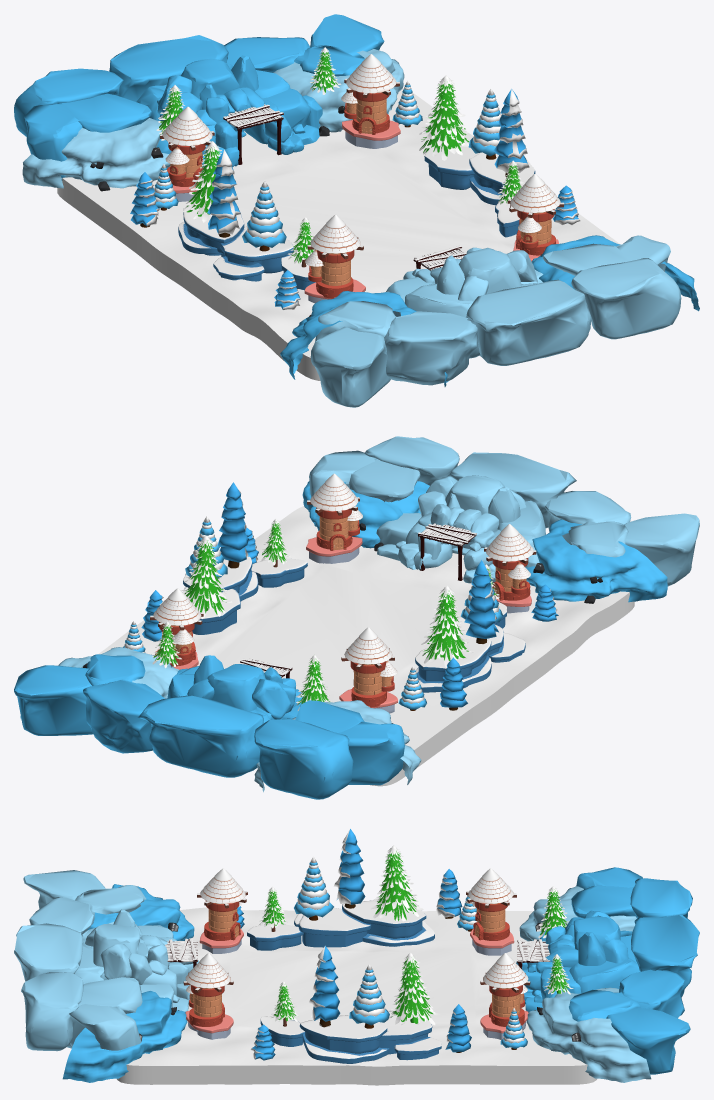
Rendered from snow.glb.
3 views of the same model, one above another, from view 1: azimuth 30°, elevation 25°; view 2: azimuth 150°, elevation 25°; view 3: azimuth 270°, elevation 25° (orthographic). The views are drawn at different scales.
Parts seen in each view (by area): view 1: Plane_0, Object_26, Object_10, Plane.001_10, Tree-Stabd-1_15, HOUSE-1_14, HOUSE-1.001_16, Plane.002_12, Tree-4_20, Tree-6_21, Tree-1_17, Tree-7_22 (+8 smaller); view 2: Plane_0, Object_10, Object_26, Plane.002_12, Tree-Stabd-1_15, HOUSE-1.001_16, HOUSE-1_14, Tree-4_20, Tree-6_21, Plane.001_10, Tree-2_18, Tree-1_17 (+6 smaller); view 3: Plane_0, Object_26, Object_10, Tree-Stabd-1_15, Plane.001_10, Plane.002_12, HOUSE-1.001_16, HOUSE-1_14, Tree-4_20, Tree-6_21, Tree-1_17, Tree-2_18 (+8 smaller).
Boxes of the visible parts, box(x1,y1,x2,y2) form: Plane_0: box(57, 88, 620, 380); Object_26: box(310, 235, 681, 407); Object_10: box(14, 14, 384, 180); Plane.001_10: box(22, 49, 404, 188); Tree-Stabd-1_15: box(178, 143, 535, 290); HOUSE-1_14: box(341, 54, 563, 261); HOUSE-1.001_16: box(160, 106, 365, 303); Plane.002_12: box(280, 235, 699, 386); Tree-4_20: box(183, 75, 470, 222); Tree-6_21: box(207, 88, 529, 237); Tree-1_17: box(242, 89, 501, 251); Tree-7_22: box(154, 81, 422, 210); Plane_0: box(98, 506, 634, 786); Object_10: box(14, 654, 404, 799); Object_26: box(309, 436, 699, 586); Plane.002_12: box(302, 481, 667, 602); Tree-Stabd-1_15: box(177, 556, 525, 692); HOUSE-1.001_16: box(339, 524, 536, 713); HOUSE-1_14: box(150, 473, 362, 669); Tree-4_20: box(181, 535, 474, 667); Tree-6_21: box(217, 482, 498, 643); Plane.001_10: box(20, 647, 421, 792); Tree-2_18: box(141, 590, 467, 710); Tree-1_17: box(185, 516, 502, 622); Plane_0: box(117, 907, 596, 1085); Object_26: box(14, 870, 198, 1051); Object_10: box(516, 867, 699, 1074); Tree-Stabd-1_15: box(247, 900, 441, 1063); Plane.001_10: box(519, 886, 651, 1082); Plane.002_12: box(62, 884, 194, 1082); HOUSE-1.001_16: box(197, 868, 516, 955); HOUSE-1_14: box(183, 953, 530, 1039); Tree-4_20: box(370, 845, 440, 1025); Tree-6_21: box(309, 829, 365, 1027); Tree-1_17: box(294, 857, 389, 1028); Tree-2_18: box(436, 869, 471, 1052).
Bounding box in the file's own units: 13.53 × 4.57 × 22.79.
21 materials, 6 textured.
